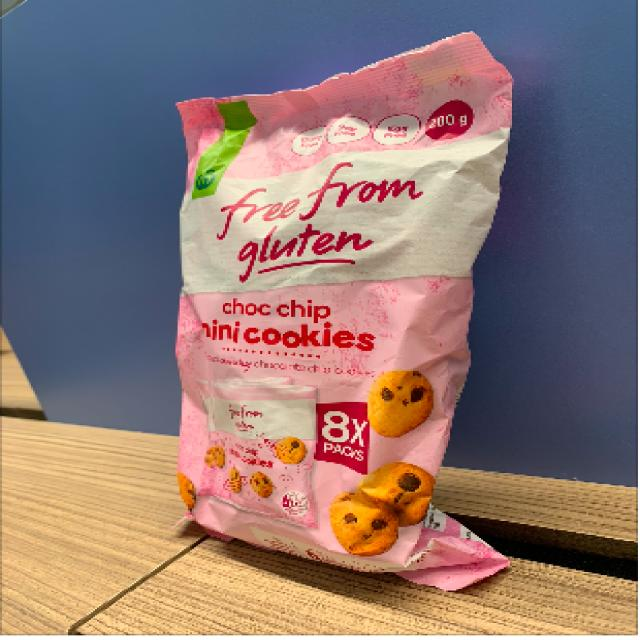object_name: (174, 75, 472, 556)
